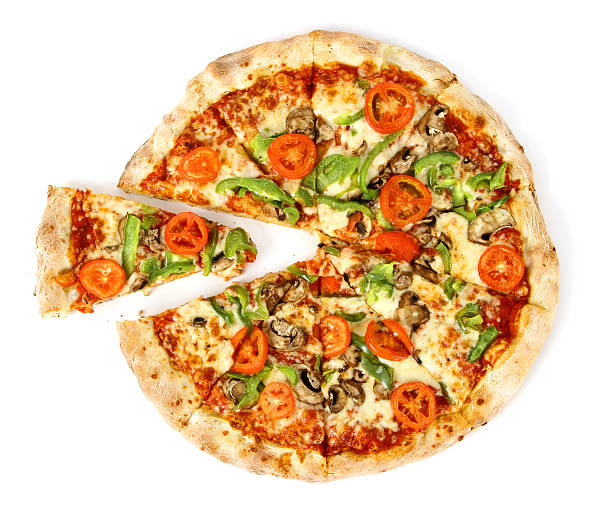Pizza: (47, 40, 598, 470)
